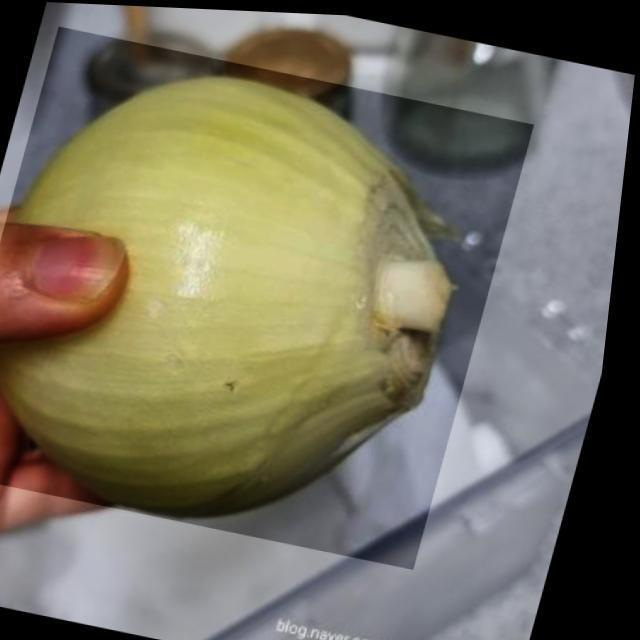Onion: (0, 24, 542, 567)
